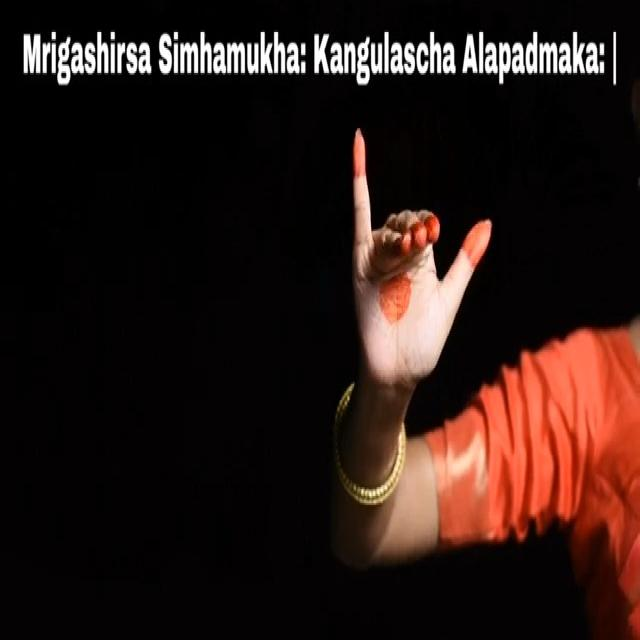Mrigashirsha: (324, 110, 508, 408)
bangle: (326, 407, 417, 526)
text: (12, 12, 622, 96)
